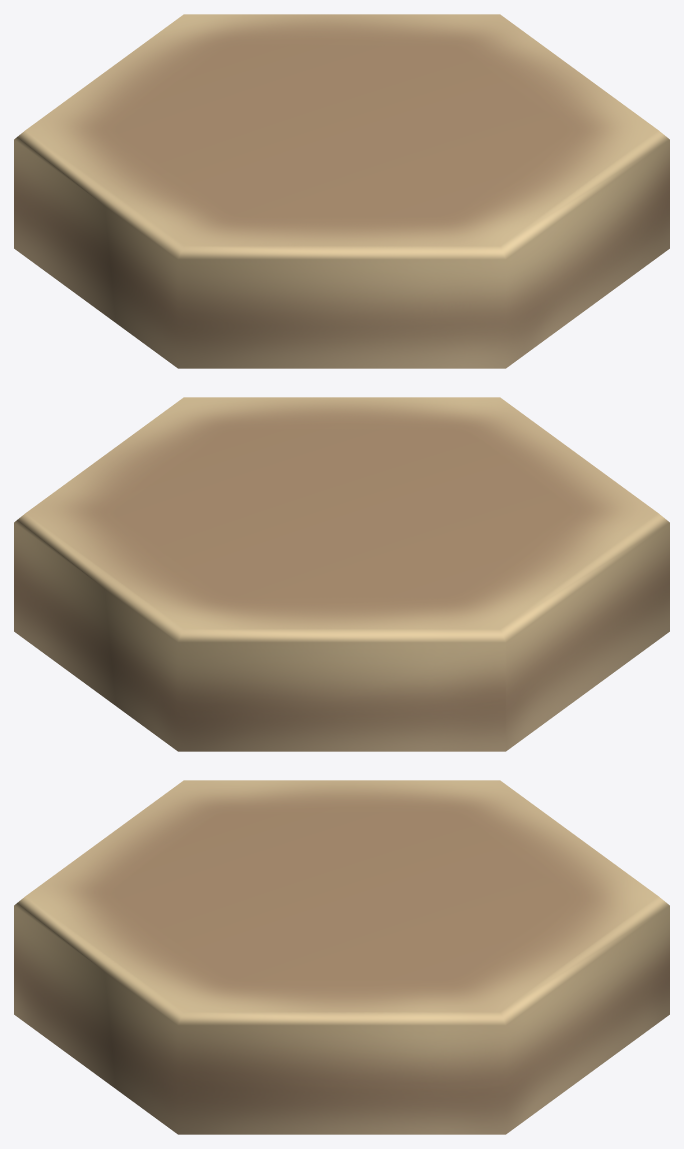
Rendered from sand.fbx.
The picture shows the model from 3 angles, top to bottom: view 1: azimuth 30°, elevation 25°; view 2: azimuth 150°, elevation 25°; view 3: azimuth 270°, elevation 25°; orthographic projection.
Parts seen in each view (by area): view 1: Sand; view 2: Sand; view 3: Sand.
Boxes of the visible parts, box(x1,y1,x2,y2) form: Sand: box(14, 14, 669, 368); Sand: box(14, 397, 669, 751); Sand: box(14, 780, 669, 1134).
Size of the model in its own units: 83.34 by 19.14 by 96.24.
Materials: 1 (1 with a texture image).
